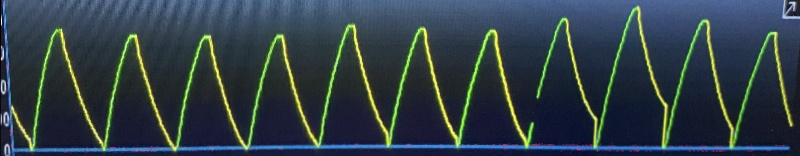leakage: (516, 0, 745, 153)
normal_volume: (20, 13, 504, 154)
